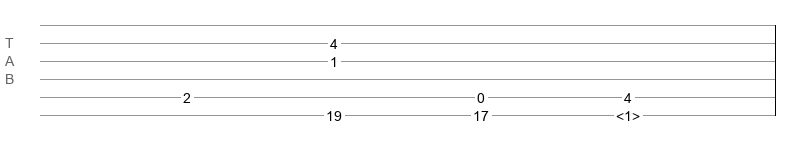0: (477, 90, 485, 100)
1: (330, 54, 338, 64)
17: (473, 108, 489, 118)
19: (326, 108, 342, 118)
2: (183, 90, 191, 100)
4: (330, 36, 338, 46), (624, 90, 632, 100)
harmonic: (616, 108, 640, 118)
